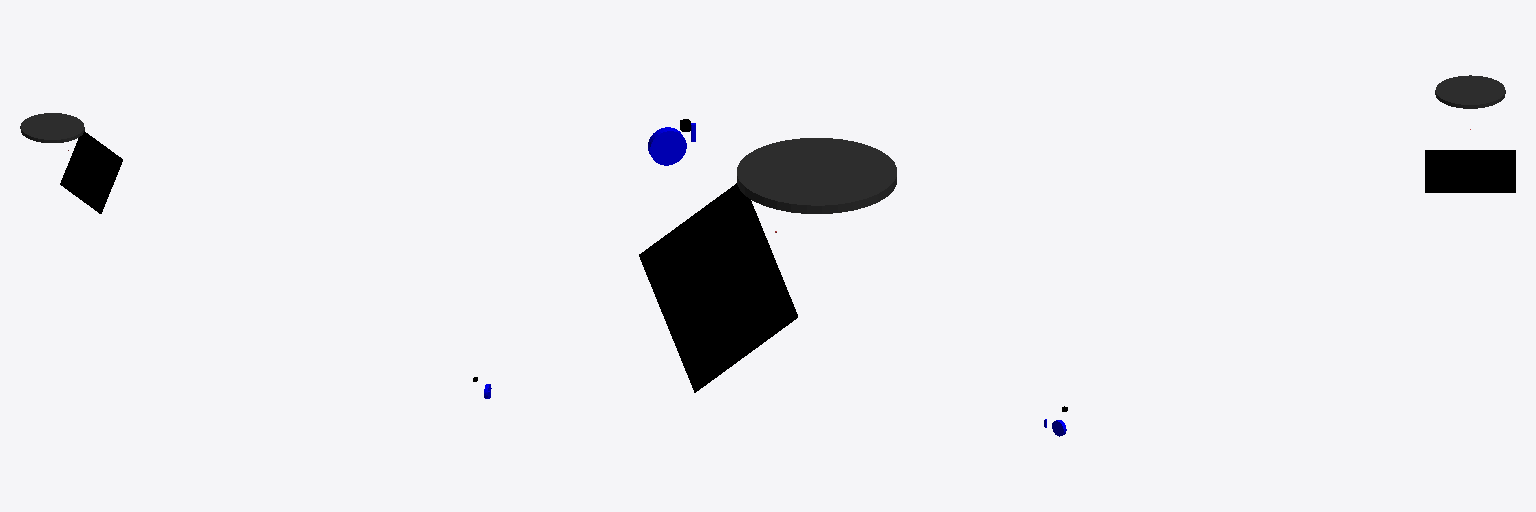
The robot description file, URDF, robot "baxter":
<?xml version="1.0" encoding="utf-8"?>
<!-- =================================================================================== -->
<!-- |    This document was autogenerated by xacro from baxter_description/urdf/right.xacro | -->
<!-- |    EDITING THIS FILE BY HAND IS NOT RECOMMENDED                                 | -->
<!-- =================================================================================== -->
<robot name="baxter" xmlns:xacro="http://www.ros.org/wiki/xacro">
  <link name="base">
  </link>
  <link name="torso">
    <visual>
      <origin rpy="0 0 0" xyz="0 0 0"/>
      <geometry>
        <mesh filename="package://baxter_description/meshes/torso/base_link.DAE"/>
      </geometry>
      <material name="darkgray">
        <color rgba=".2 .2 .2 1"/>
      </material>
    </visual>
    <inertial>
      <origin rpy="0 0 0" xyz="0.000000 0.000000 0.000000"/>
      <mass value="35.336455"/>
      <inertia ixx="1.849155" ixy="-0.000354" ixz="-0.154188" iyy="1.662671" iyz="0.003292" izz="0.802239"/>
    </inertial>
  </link>
  <link name="right_torso_itb">
    <inertial>
      <origin rpy="0 0 0" xyz="0.000000 0.000000 0.000000"/>
      <mass value="0.0001"/>
      <inertia ixx="1e-08" ixy="0" ixz="0" iyy="1e-08" iyz="0" izz="1e-08"/>
    </inertial>
  </link>
  <link name="head">
    <visual>
      <origin rpy="0 0 0" xyz="0 0 .00953"/>
      <geometry>
        <mesh filename="package://baxter_description/meshes/head/H0.DAE"/>
      </geometry>
      <material name="darkgray">
        <color rgba=".2 .2 .2 1"/>
      </material>
    </visual>
    <collision>
      <origin rpy="0 0 0" xyz="0.0 0 0.0"/>
      <geometry>
        <sphere radius="0.001"/>
      </geometry>
    </collision>
    <inertial>
      <origin rpy="0 0 0" xyz="0 0 0"/>
      <mass value="0.547767"/>
      <inertia ixx="0.004641" ixy="0.000159" ixz="0.000242" iyy="0.003295" iyz="-0.001324" izz="0.003415"/>
    </inertial>
  </link>
  <link name="sonar_ring">
    <visual>
      <origin rpy="0 0 0" xyz="-.0347 0 .00953"/>
      <geometry>
        <cylinder length="0.01" radius="0.085"/>
      </geometry>
      <material name="darkgray">
        <color rgba=".2 .2 .2 1"/>
      </material>
    </visual>
    <collision>
      <origin rpy="0 0 0" xyz="0.0 0 0.0"/>
      <geometry>
        <sphere radius="0.001"/>
      </geometry>
    </collision>
    <inertial>
      <origin rpy="0 0 0" xyz="0 0 0"/>
      <mass value="0.0001"/>
      <inertia ixx="1e-08" ixy="0" ixz="0" iyy="1e-08" iyz="0" izz="1e-08"/>
    </inertial>
  </link>
  <link name="screen">
    <visual>
      <origin rpy="0 -1.57079632679 0" xyz="0 -.00953 -.0347"/>
      <geometry>
        <mesh filename="package://baxter_description/meshes/head/H1.DAE"/>
      </geometry>
      <material name="darkred">
        <color rgba=".5 .1 .1 1"/>
      </material>
    </visual>
    <collision>
      <origin rpy="0 0 0" xyz="0.0 0 0.0"/>
      <geometry>
        <sphere radius="0.001"/>
      </geometry>
    </collision>
    <inertial>
      <origin rpy="0 0 0" xyz="0 0 0"/>
      <mass value="0.440171"/>
      <inertia ixx="0.004006" ixy="0.000230" ixz="0.000002" iyy="0.002800" iyz="0.000029" izz="0.001509"/>
    </inertial>
  </link>
  <link name="display">
    <visual>
      <origin rpy="0.2617993877991494 0 0" xyz="0 0 0"/>
      <geometry>
        <box size="0.218 0.16 0.001"/>
      </geometry>
      <material name="black">
        <color rgba="0 0 0 1"/>
      </material>
    </visual>
    <inertial>
      <origin rpy="0 0 0" xyz="0 0 0"/>
      <mass value="0.0001"/>
      <inertia ixx="1e-08" ixy="0" ixz="0" iyy="1e-08" iyz="0" izz="1e-08"/>
    </inertial>
  </link>
  <link name="head_camera">
    <inertial>
      <origin rpy="0 0 0" xyz="0 0 0"/>
      <mass value="0.0001"/>
      <inertia ixx="1e-08" ixy="0" ixz="0" iyy="1e-08" iyz="0" izz="1e-08"/>
    </inertial>
  </link>
  <link name="dummyhead1">
    <inertial>
      <origin rpy="0 0 0" xyz="0 0 0"/>
      <mass value="0.0001"/>
      <inertia ixx="1e-08" ixy="0" ixz="0" iyy="1e-08" iyz="0" izz="1e-08"/>
    </inertial>
  </link>
  <link name="collision_head_link_1">
    <visual>
      <origin rpy="0 0 0" xyz="0 0 0"/>
      <geometry>
        <sphere radius="0.001"/>
      </geometry>
      <material name="red">
        <color rgba="0.8 0.3 0.3 0.3"/>
      </material>
    </visual>
    <collision>
      <origin rpy="0 0 0.0" xyz="-0.07 -0.04 0.0"/>
      <geometry>
        <sphere radius="0.22"/>
      </geometry>
    </collision>
    <inertial>
      <origin rpy="0 0 0" xyz="0 0 0"/>
      <mass value="0.0001"/>
      <inertia ixx="1e-08" ixy="0" ixz="0" iyy="1e-08" iyz="0" izz="1e-08"/>
    </inertial>
  </link>
  <link name="collision_head_link_2">
    <visual>
      <origin rpy="0 0 0" xyz="0 0 0"/>
      <geometry>
        <sphere radius="0.001"/>
      </geometry>
      <material name="red">
        <color rgba="0.8 0.3 0.3 0.3"/>
      </material>
    </visual>
    <collision>
      <origin rpy="0 0 0" xyz="-0.07 0.04 0.00"/>
      <geometry>
        <sphere radius="0.22"/>
      </geometry>
    </collision>
    <inertial>
      <origin rpy="0 0 0" xyz="0 0 0"/>
      <mass value="0.0001"/>
      <inertia ixx="1e-08" ixy="0" ixz="0" iyy="1e-08" iyz="0" izz="1e-08"/>
    </inertial>
  </link>
  <joint name="collision_head_1" type="fixed">
    <origin rpy="0 0 0" xyz="0.11 0 0.75"/>
    <parent link="base"/>
    <child link="collision_head_link_1"/>
  </joint>
  <joint name="collision_head_2" type="fixed">
    <origin rpy="0 0 0" xyz="0.11 0 0.75"/>
    <parent link="base"/>
    <child link="collision_head_link_2"/>
  </joint>
  <joint name="dummy" type="fixed">
    <origin rpy="0 0 0" xyz="0 0 0"/>
    <parent link="head"/>
    <child link="dummyhead1"/>
  </joint>
  <joint name="torso_t0" type="fixed">
    <origin rpy="0 0 0" xyz="0 0 0"/>
    <parent link="base"/>
    <child link="torso"/>
    <limit effort="50000" lower="-3.01" upper="3.01" velocity="10000"/>
  </joint>
  <joint name="right_torso_itb_fixed" type="fixed">
    <origin rpy="1.57079632679 0 0" xyz="-0.08897 -0.15593 0.389125"/>
    <parent link="torso"/>
    <child link="right_torso_itb"/>
  </joint>
  <joint name="head_pan" type="fixed">
    <origin rpy="0 0 0" xyz="0.06 0 0.686"/>
    <axis xyz="0 0 1"/>
    <parent link="torso"/>
    <child link="head"/>
    <limit effort="50000" lower="-1.3963" upper="1.3963" velocity="10000"/>
    <dynamics damping="0.7" friction="0.0"/>
  </joint>
  <joint name="head_nod" type="fixed">
    <origin rpy="1.75057 0 1.57079632679" xyz=".1227 0 0"/>
    <parent link="head"/>
    <child link="screen"/>
  </joint>
  <joint name="head_camera" type="fixed">
    <origin rpy="1.75057 0 1.57079632679" xyz="0.12839 0 0.06368"/>
    <parent link="head"/>
    <child link="head_camera"/>
  </joint>
  <joint name="display_joint" type="fixed">
    <origin rpy="0 0 0" xyz="0.0 -0.016 0.0"/>
    <parent link="screen"/>
    <child link="display"/>
  </joint>
  <joint name="sonar_s0" type="fixed">
    <origin rpy="0 0 0" xyz="0.0947 0 .817"/>
    <axis xyz="0 0 1"/>
    <parent link="torso"/>
    <child link="sonar_ring"/>
  </joint>
  <link name="right_arm_mount">
    <!-- all defaults -->
    <inertial>
      <origin rpy="0 0 0" xyz="0 0 0"/>
      <mass value="0.0001"/>
      <inertia ixx="1e-08" ixy="0" ixz="0" iyy="1e-08" iyz="0" izz="1e-08"/>
    </inertial>
  </link>
  <link name="right_upper_shoulder">
    <visual>
      <origin rpy="0 0 0" xyz="0 0 0"/>
      <geometry>
        <mesh filename="package://baxter_description/meshes/upper_shoulder/S0.DAE"/>
      </geometry>
      <material name="darkred">
        <color rgba=".5 .1 .1 1"/>
      </material>
    </visual>
    <collision>
      <origin rpy="0 0 0" xyz="0 0 0.1361"/>
      <geometry>
        <cylinder length="0.2722" radius="0.06"/>
      </geometry>
    </collision>
    <inertial>
      <origin rpy="0 0 0" xyz="0.01783 0.00086 0.19127"/>
      <mass value="5.70044"/>
      <inertia ixx="0.04709102262" ixy="0.00012787556" ixz="0.00614870039" iyy="0.03766976455" iyz="0.00078086899" izz="0.03595988478"/>
    </inertial>
  </link>
  <link name="right_lower_shoulder">
    <visual>
      <origin rpy="0 0 0" xyz="0 0 0"/>
      <geometry>
        <mesh filename="package://baxter_description/meshes/lower_shoulder/S1.DAE"/>
      </geometry>
      <material name="darkred">
        <color rgba=".5 .1 .1 1"/>
      </material>
    </visual>
    <collision>
      <origin rpy="0 0 0" xyz="0 0 0"/>
      <geometry>
        <cylinder length="0.12" radius="0.06"/>
      </geometry>
    </collision>
    <inertial>
      <origin rpy="0 0 0" xyz="0.06845 0.00269 -0.00529"/>
      <mass value="3.22698"/>
      <inertia ixx="0.01175209419" ixy="-0.00030096398" ixz="0.00207675762" iyy="0.0278859752" iyz="-0.00018821993" izz="0.02078749298"/>
    </inertial>
  </link>
  <link name="right_upper_elbow">
    <visual>
      <origin rpy="0 0 0" xyz="0 0 0"/>
      <geometry>
        <mesh filename="package://baxter_description/meshes/upper_elbow/E0.DAE"/>
      </geometry>
      <material name="darkred">
        <color rgba=".5 .1 .1 1"/>
      </material>
    </visual>
    <collision>
      <origin rpy="0 0 0" xyz="0 0 -0.0535"/>
      <geometry>
        <cylinder length="0.107" radius="0.06"/>
      </geometry>
    </collision>
    <inertial>
      <origin rpy="0 0 0" xyz="-0.00276 0.00132 0.18086"/>
      <mass value="4.31272"/>
      <inertia ixx="0.02661733557" ixy="0.00029270634" ixz="0.00392189887" iyy="0.02844355207" iyz="0.0010838933" izz="0.01248008322"/>
    </inertial>
  </link>
  <link name="right_upper_elbow_visual">
    <collision>
      <origin rpy="0 0 0" xyz="0 0 0.1365"/>
      <geometry>
        <cylinder length="0.273" radius="0.06"/>
      </geometry>
    </collision>
    <inertial>
      <origin rpy="0 0 0" xyz="0 0 0"/>
      <mass value="0.0001"/>
      <inertia ixx="1e-08" ixy="0" ixz="0" iyy="1e-08" iyz="0" izz="1e-08"/>
    </inertial>
  </link>
  <link name="right_lower_elbow">
    <visual>
      <origin rpy="0 0 0" xyz="0 0 0"/>
      <geometry>
        <mesh filename="package://baxter_description/meshes/lower_elbow/E1.DAE"/>
      </geometry>
      <material name="darkred">
        <color rgba=".5 .1 .1 1"/>
      </material>
    </visual>
    <collision>
      <origin rpy="0 0 0" xyz="0.0 0.0 0.0"/>
      <geometry>
        <cylinder length="0.10" radius="0.06"/>
      </geometry>
    </collision>
    <inertial>
      <origin rpy="0 0 0" xyz="0.02611 0.00159 -0.01117"/>
      <mass value="2.07206"/>
      <inertia ixx="0.00711582686" ixy="0.00036036173" ixz="0.0007459496" iyy="0.01318227876" iyz="-0.00019663418" izz="0.00926852064"/>
    </inertial>
  </link>
  <link name="right_upper_forearm">
    <visual>
      <origin rpy="0 0 0" xyz="0 0 0"/>
      <geometry>
        <mesh filename="package://baxter_description/meshes/upper_forearm/W0.DAE"/>
      </geometry>
      <material name="darkred">
        <color rgba=".5 .1 .1 1"/>
      </material>
    </visual>
    <collision>
      <origin rpy="0 0 0" xyz="0 0 -0.044"/>
      <geometry>
        <cylinder length="0.088" radius="0.06"/>
      </geometry>
    </collision>
    <inertial>
      <origin rpy="0 0 0" xyz="-0.00168 0.0046 0.13952"/>
      <mass value="2.24665"/>
      <inertia ixx="0.01667742825" ixy="0.00018403705" ixz="0.00018657629" iyy="0.01675457264" iyz="-0.00064732352" izz="0.0037463115"/>
    </inertial>
  </link>
  <link name="right_upper_forearm_visual">
    <collision>
      <origin rpy="0 0 0" xyz="0 0 0.136"/>
      <geometry>
        <cylinder length="0.272" radius="0.06"/>
      </geometry>
    </collision>
    <inertial>
      <origin rpy="0 0 0" xyz="0 0 0"/>
      <mass value="0.0001"/>
      <inertia ixx="1e-08" ixy="0" ixz="0" iyy="1e-08" iyz="0" izz="1e-08"/>
    </inertial>
  </link>
  <link name="right_arm_itb">
    <inertial>
      <origin rpy="0 0 0" xyz="0.000000 0.000000 0.000000"/>
      <mass value="0.0001"/>
      <inertia ixx="1e-08" ixy="0" ixz="0" iyy="1e-08" iyz="0" izz="1e-08"/>
    </inertial>
  </link>
  <link name="right_lower_forearm">
    <visual>
      <origin rpy="0 0 0" xyz="0 0 0"/>
      <geometry>
        <mesh filename="package://baxter_description/meshes/lower_forearm/W1.DAE"/>
      </geometry>
      <material name="darkred">
        <color rgba=".5 .1 .1 1"/>
      </material>
    </visual>
    <collision>
      <origin rpy="0 0 0" xyz="0 0 0"/>
      <geometry>
        <cylinder length="0.10" radius="0.06"/>
      </geometry>
    </collision>
    <inertial>
      <origin rpy="0 0 0" xyz="0.06041 0.00697 0.006"/>
      <mass value="1.60979"/>
      <inertia ixx="0.00387607152" ixy="-0.00044384784" ixz="-0.00021115038" iyy="0.00700537914" iyz="0.00015348067" izz="0.0055275524"/>
    </inertial>
  </link>
  <link name="right_wrist">
    <visual>
      <origin rpy="0 0 0" xyz="0 0 0"/>
      <geometry>
        <mesh filename="package://baxter_description/meshes/wrist/W2.DAE"/>
      </geometry>
      <material name="lightgrey">
        <color rgba=".1 .1 .1 1"/>
      </material>
    </visual>
    <collision>
      <origin rpy="0 0 0" xyz="0 0 0"/>
      <geometry>
        <cylinder length="0.165" radius="0.06"/>
      </geometry>
    </collision>
    <inertial>
      <origin rpy="0 0 0" xyz="0.00198 0.00125 0.01855"/>
      <mass value="0.35093"/>
      <inertia ixx="0.00025289155" ixy="0.00000575311" ixz="-0.00000159345" iyy="0.0002688601" iyz="-0.00000519818" izz="0.0003074118"/>
    </inertial>
  </link>
  <link name="right_hand">
    <collision>
      <origin rpy="0 0 0" xyz="0 0 -0.0232"/>
      <geometry>
        <cylinder length="0.0464" radius="0.04"/>
      </geometry>
    </collision>
    <inertial>
      <origin rpy="0 0 0" xyz="0.01093 0.00042 -0.01532"/>
      <mass value="0.19125"/>
      <inertia ixx="0.00017588" ixy="0.00000147073" ixz="0.0000243633" iyy="0.00021166377" iyz="0.00000172689" izz="0.00023745397"/>
    </inertial>
  </link>
  <link name="right_hand_camera">
    <visual>
      <origin rpy="0 0 0" xyz="0 0 0"/>
      <geometry>
        <cylinder length="0.01" radius="0.02"/>
      </geometry>
      <material name="blue">
        <color rgba="0 0 1 0.8"/>
      </material>
    </visual>
    <inertial>
      <origin rpy="0 0 0" xyz="0 0 0"/>
      <mass value="0.0001"/>
      <inertia ixx="1e-08" ixy="0" ixz="0" iyy="1e-08" iyz="0" izz="1e-08"/>
    </inertial>
  </link>
  <link name="right_hand_camera_axis">
    <inertial>
      <origin rpy="0 0 0" xyz="0 0 0"/>
      <mass value="0.0001"/>
      <inertia ixx="1e-08" ixy="0" ixz="0" iyy="1e-08" iyz="0" izz="1e-08"/>
    </inertial>
  </link>
  <link name="right_hand_range">
    <visual>
      <origin rpy="0 0 0" xyz="0 0 0"/>
      <geometry>
        <box size="0.005 .02 .005"/>
      </geometry>
      <material name="blue">
        <color rgba="0 0 1 0.8"/>
      </material>
    </visual>
    <inertial>
      <origin rpy="0 0 0" xyz="0 0 0"/>
      <mass value="0.0001"/>
      <inertia ixx="1e-08" ixy="0" ixz="0" iyy="1e-08" iyz="0" izz="1e-08"/>
    </inertial>
  </link>
  <link name="right_hand_accelerometer">
    <visual>
      <origin rpy="0 0 0" xyz="0 0 0"/>
      <geometry>
        <box size="0.01 0.01 0.01"/>
      </geometry>
      <material name="black">
        <color rgba="0 0 0 1"/>
      </material>
    </visual>
    <inertial>
      <origin rpy="0 0 0" xyz="0.000000 0.000000 0.000000"/>
      <mass value="0.0001"/>
      <inertia ixx="1e-08" ixy="0" ixz="0" iyy="1e-08" iyz="0" izz="1e-08"/>
    </inertial>
  </link>
  <joint name="right_torso_arm_mount" type="fixed">
    <origin rpy="0 0 -0.7854" xyz="0.024645 -0.219645 0.118588"/>
    <parent link="torso"/>
    <child link="right_arm_mount"/>
  </joint>
  <joint name="right_s0" type="revolute">
    <origin rpy="0 0 0" xyz="0.055695 0 0.011038"/>
    <axis xyz="0 0 1"/>
    <parent link="right_arm_mount"/>
    <child link="right_upper_shoulder"/>
    <limit effort="50.0" lower="-1.70167993878" upper="1.70167993878" velocity="1.5"/>
    <dynamics damping="0.7" friction="0.0"/>
  </joint>
  <joint name="right_s1" type="revolute">
    <origin rpy="-1.57079632679 0 0" xyz="0.069 0 0.27035"/>
    <axis xyz="0 0 1"/>
    <parent link="right_upper_shoulder"/>
    <child link="right_lower_shoulder"/>
    <limit effort="50.0" lower="-2.147" upper="1.047" velocity="1.5"/>
    <dynamics damping="0.7" friction="0.0"/>
  </joint>
  <joint name="right_e0" type="revolute">
    <origin rpy="1.57079632679 0 1.57079632679" xyz="0.102 0 0"/>
    <axis xyz="0 0 1"/>
    <parent link="right_lower_shoulder"/>
    <child link="right_upper_elbow"/>
    <limit effort="50.0" lower="-3.05417993878" upper="3.05417993878" velocity="1.5"/>
    <dynamics damping="0.7" friction="0.0"/>
  </joint>
  <joint name="right_e0_fixed" type="fixed">
    <origin rpy="1.57079632679 0 1.57079632679" xyz="0.107 0 0"/>
    <axis xyz="0 0 1"/>
    <parent link="right_lower_shoulder"/>
    <child link="right_upper_elbow_visual"/>
  </joint>
  <joint name="right_e1" type="revolute">
    <origin rpy="-1.57079632679 -1.57079632679 0" xyz="0.069 0 0.26242"/>
    <axis xyz="0 0 1"/>
    <parent link="right_upper_elbow"/>
    <child link="right_lower_elbow"/>
    <limit effort="50.0" lower="-0.05" upper="2.618" velocity="1.5"/>
    <dynamics damping="0.7" friction="0.0"/>
  </joint>
  <joint name="right_w0" type="revolute">
    <origin rpy="1.57079632679 0 1.57079632679" xyz="0.10359 0 0"/>
    <axis xyz="0 0 1"/>
    <parent link="right_lower_elbow"/>
    <child link="right_upper_forearm"/>
    <limit effort="15.0" lower="-3.059" upper="3.059" velocity="4.0"/>
    <dynamics damping="0.7" friction="0.0"/>
  </joint>
  <joint name="right_w0_fixed" type="fixed">
    <origin rpy="1.57079632679 0 1.57079632679" xyz="0.088 0 0"/>
    <axis xyz="0 0 1"/>
    <parent link="right_lower_elbow"/>
    <child link="right_upper_forearm_visual"/>
  </joint>
  <joint name="right_w0_to_itb_fixed" type="fixed">
    <origin rpy="-1.57079632679 0 1.57079632679" xyz="-0.0565 0 0.12"/>
    <axis xyz="0 0 1"/>
    <parent link="right_upper_forearm"/>
    <child link="right_arm_itb"/>
  </joint>
  <joint name="right_w1" type="revolute">
    <origin rpy="-1.57079632679 -1.57079632679 0" xyz="0.01 0 0.2707"/>
    <axis xyz="0 0 1"/>
    <parent link="right_upper_forearm"/>
    <child link="right_lower_forearm"/>
    <limit effort="15.0" lower="-1.57079632679" upper="2.094" velocity="4.0"/>
    <dynamics damping="0.7" friction="0.0"/>
  </joint>
  <joint name="right_w2" type="revolute">
    <origin rpy="1.57079632679 0 1.57079632679" xyz="0.115975 0 0"/>
    <axis xyz="0 0 1"/>
    <parent link="right_lower_forearm"/>
    <child link="right_wrist"/>
    <limit effort="15.0" lower="-3.059" upper="3.059" velocity="4.0"/>
    <dynamics damping="0.7" friction="0.0"/>
  </joint>
  <joint name="right_hand" type="fixed">
    <origin rpy="0 0 0" xyz="0 0 0.11355"/>
    <axis xyz="0 0 1"/>
    <parent link="right_wrist"/>
    <child link="right_hand"/>
  </joint>
  <joint name="right_hand_camera" type="fixed">
    <origin rpy="0 0 -1.57079633" xyz="0.03825 0.012 0.015355"/>
    <parent link="right_hand"/>
    <child link="right_hand_camera"/>
  </joint>
  <joint name="right_hand_camera_axis" type="fixed">
    <origin rpy="0 0 0" xyz="0.03825 0.012 0.015355"/>
    <parent link="right_hand"/>
    <child link="right_hand_camera_axis"/>
  </joint>
  <joint name="right_hand_range" type="fixed">
    <origin rpy="0 -1.57079632679 -1.57079632679" xyz="0.032 -0.020245 0.0288"/>
    <parent link="right_hand"/>
    <child link="right_hand_range"/>
  </joint>
  <joint name="right_hand_accelerometer" type="fixed">
    <origin rpy="0 0 0" xyz="0.00198 0.000133 -0.0146"/>
    <parent link="right_hand"/>
    <child link="right_hand_accelerometer"/>
  </joint>
</robot>

--- Render facts (derived) ---
Views: 3 orthographic renders of the robot side by side, from view 1: azimuth 30°, elevation 25°; view 2: azimuth 150°, elevation 25°; view 3: azimuth 270°, elevation 25°.
Robot: baxter — 27 links, 26 joints (7 revolute, 19 fixed); root link base; default pose: all joints at 0.
Links seen in each view (by area): view 1: display, sonar_ring; view 2: display, sonar_ring, right_hand_camera; view 3: display, sonar_ring.
Link boxes in pixels (x1,y1,x2,y2): display: (60,131,122,213); sonar_ring: (20,113,84,142); display: (639,183,797,392); sonar_ring: (737,138,896,213); right_hand_camera: (648,127,686,165); display: (1425,150,1515,192); sonar_ring: (1435,75,1505,108).
Size in the robot's own frame: 0.8595 by 1.14 by 0.5688 metres.
Meshes: 10 distinct files referenced, 0 mesh visuals loaded (none loaded); not drawn: 10 (reference not matched to a file when rendering).